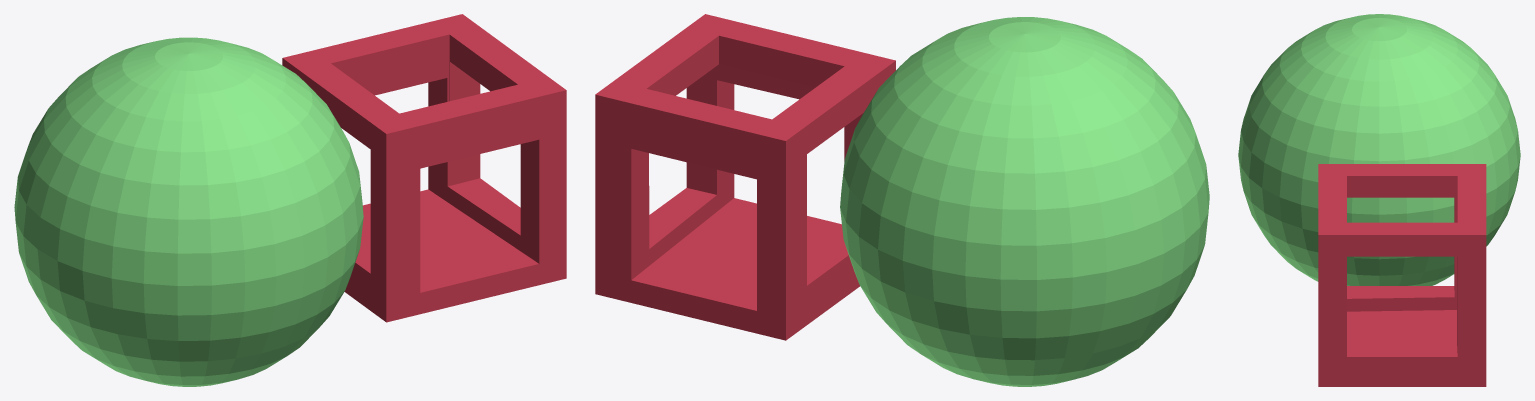
3 renders of one model, left to right at view 1: azimuth 30°, elevation 25°; view 2: azimuth 150°, elevation 25°; view 3: azimuth 270°, elevation 25°, orthographic. The views are drawn at different scales.
Parts seen in each view (by area): view 1: Sphere, Cube_001; view 2: Sphere, Cube_001; view 3: Sphere, Cube_001.
Part boxes in pixels (box(x1,y1,x2,y2)): Sphere: box(14, 37, 363, 386); Cube_001: box(282, 14, 566, 322); Sphere: box(840, 17, 1209, 386); Cube_001: box(595, 14, 895, 340); Sphere: box(1238, 14, 1520, 285); Cube_001: box(1318, 164, 1486, 386).
Size of what is drawn, in the model's own units: 5.45 by 3.37 by 3.37.
